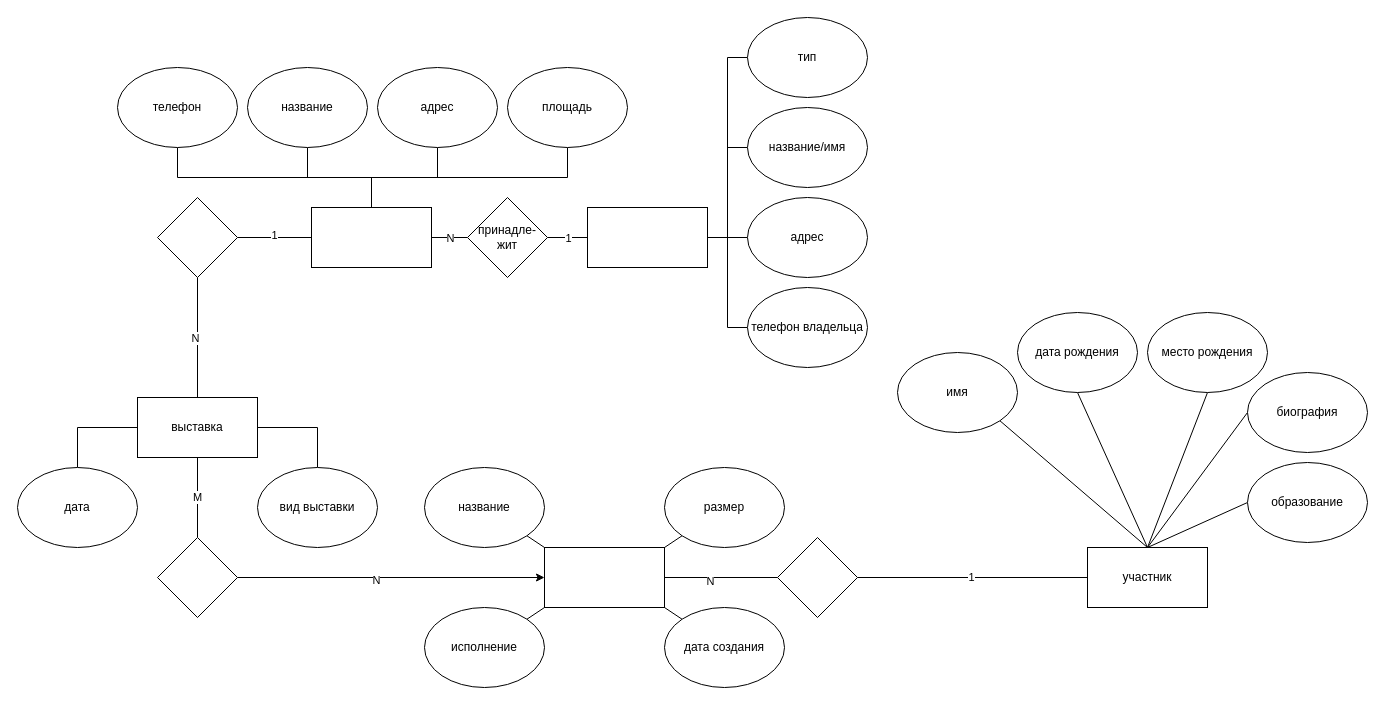
The diagram is 1385 pixels wide and 705 high, and some of its shapes have lost their labels. The shapes that lost their labels are listed below. From the top down, each one's centre as x and y in pixels, then its label:
At pixel 197 237: "проводится".
At pixel 371 237: "выставочный зал".
At pixel 647 237: "владелец".
At pixel 197 577: "имеет".
At pixel 604 577: "работа".
At pixel 817 577: "создал".
